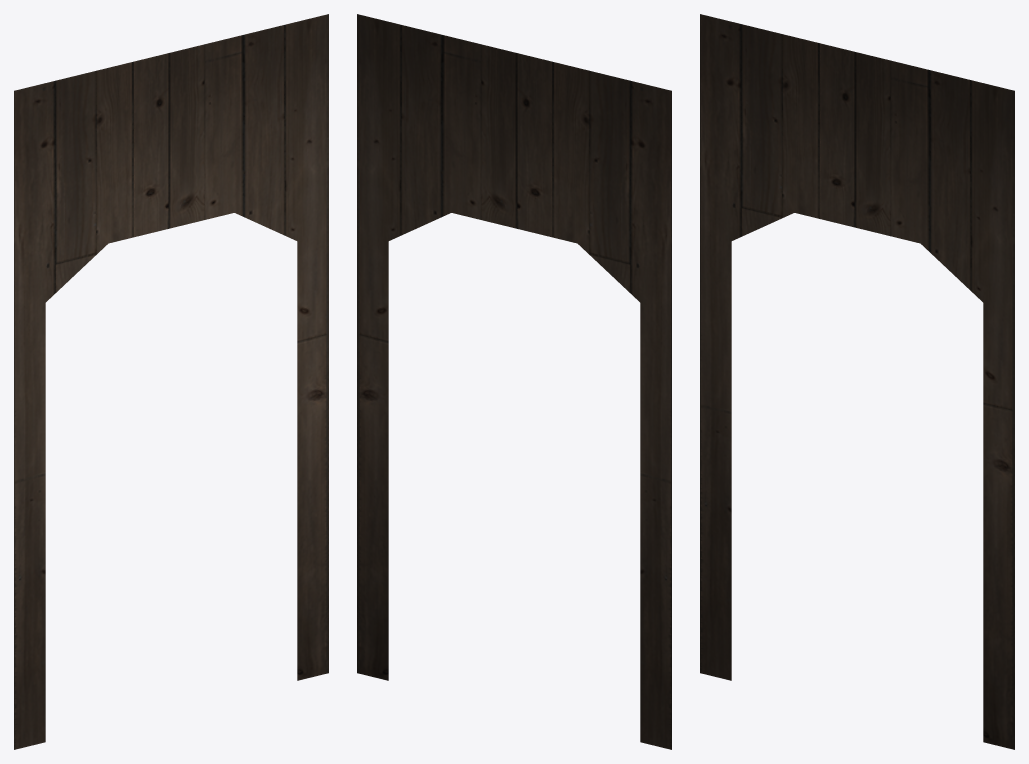
File: Wall.W_3x1.5_Archway.Small.fbx
3 views of the same model, side by side, from view 1: azimuth 30°, elevation 25°; view 2: azimuth 150°, elevation 25°; view 3: azimuth 330°, elevation 25° (orthographic).
Parts seen in each view (by area): view 1: Wall.W_3x1.5_Archway.Small; view 2: Wall.W_3x1.5_Archway.Small; view 3: Wall.W_3x1.5_Archway.Small.
Boxes of the visible parts, x1,y1,x2,y2 form: Wall.W_3x1.5_Archway.Small: (14, 14, 328, 749); Wall.W_3x1.5_Archway.Small: (357, 14, 671, 749); Wall.W_3x1.5_Archway.Small: (700, 14, 1014, 749).
Size of the model in its own units: 150 by 300 by 4.01e-05.
